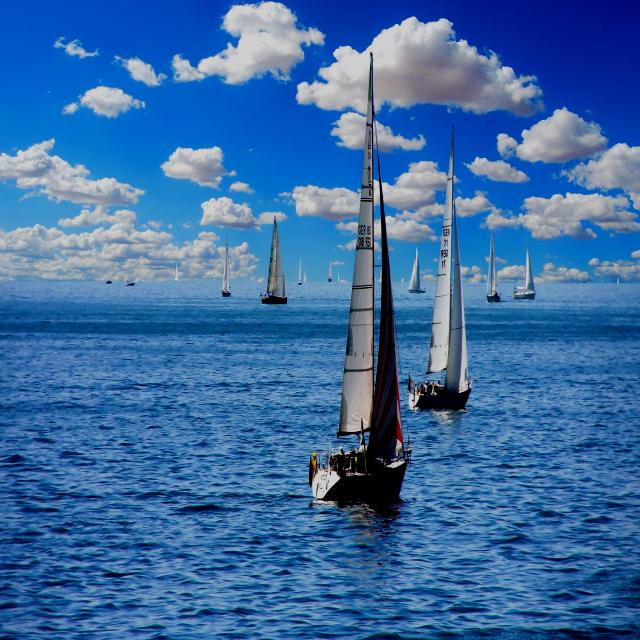ship: (303, 64, 407, 500), (415, 141, 466, 404), (263, 216, 289, 304), (478, 235, 502, 304), (511, 249, 538, 303), (218, 238, 233, 304), (408, 246, 426, 294)
